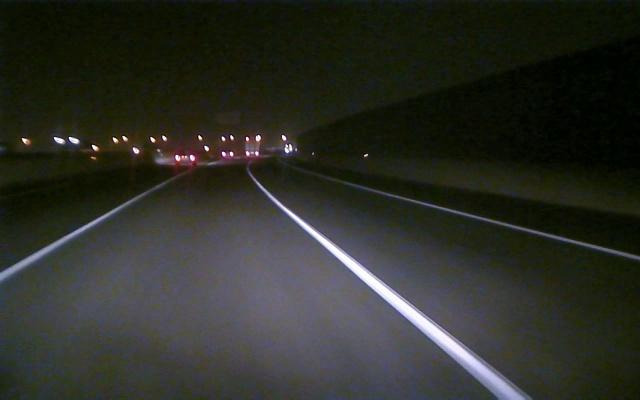lane: (256, 183, 532, 399), (341, 181, 640, 263), (1, 188, 155, 281)
